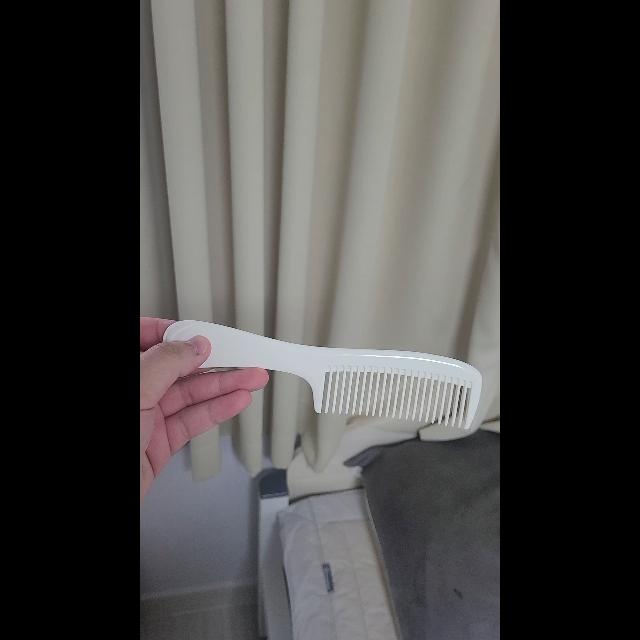COMB: (162, 320, 482, 430)
